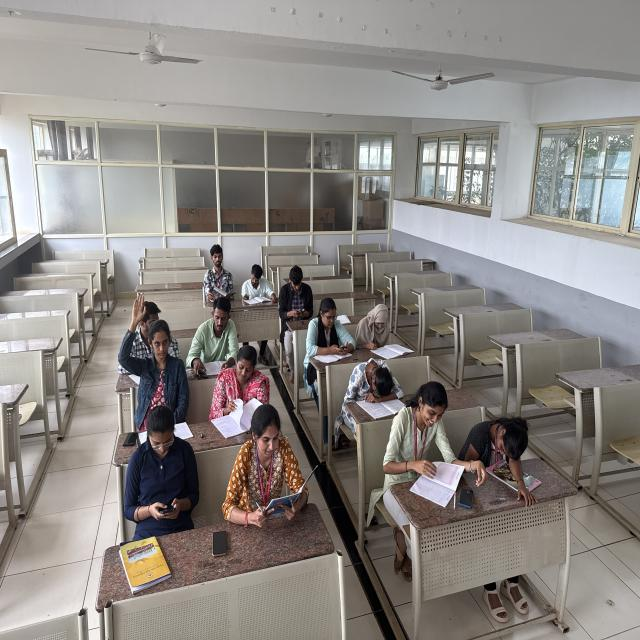Hand Rising: (113, 293, 190, 412)
Reading: (228, 408, 316, 528), (383, 376, 468, 492), (209, 340, 274, 424), (190, 302, 248, 373), (237, 257, 281, 310), (201, 240, 236, 301)
Sleeping: (462, 408, 547, 473), (342, 351, 403, 403)
Using Phone: (114, 411, 201, 534), (306, 298, 358, 363), (275, 261, 318, 329)
Writing: (353, 302, 414, 359)
